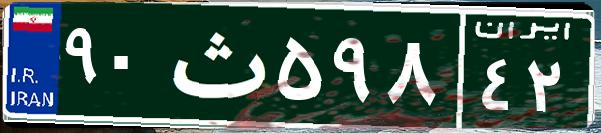0: (110, 28, 158, 105)
2: (525, 38, 570, 115)
4: (475, 38, 525, 113)
5: (273, 28, 330, 110)
8: (385, 28, 445, 110)
9: (330, 28, 385, 110), (57, 26, 110, 107)
ث: (158, 15, 273, 115)
